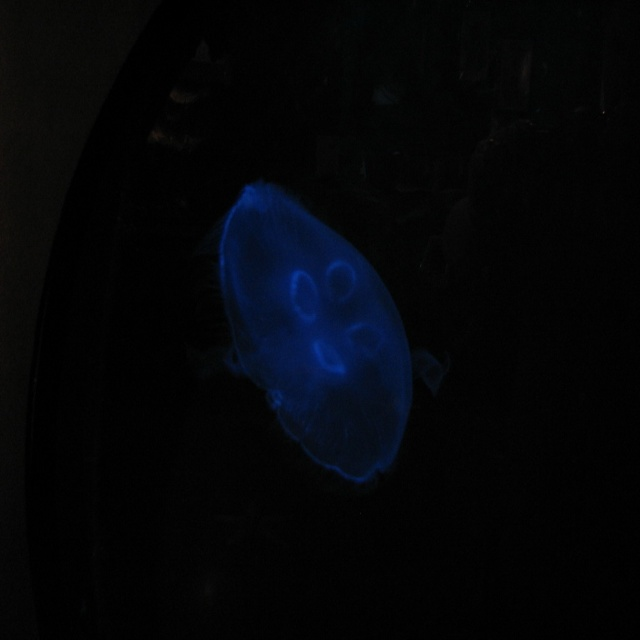Jellyfish: (206, 171, 413, 477)
